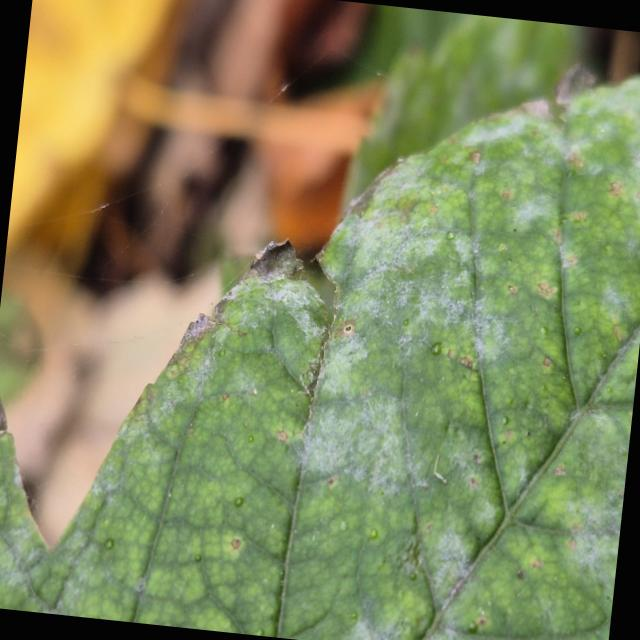powdery_mildew: (0, 78, 640, 640)
